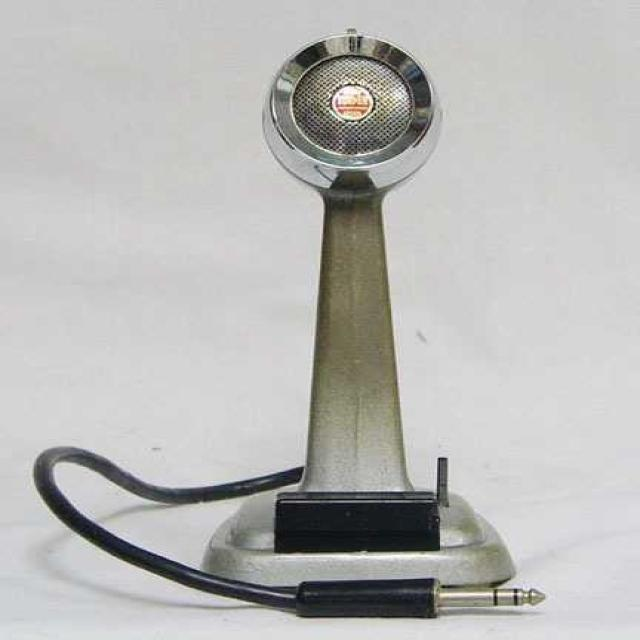microphone: (244, 31, 458, 536), (267, 32, 436, 187)
